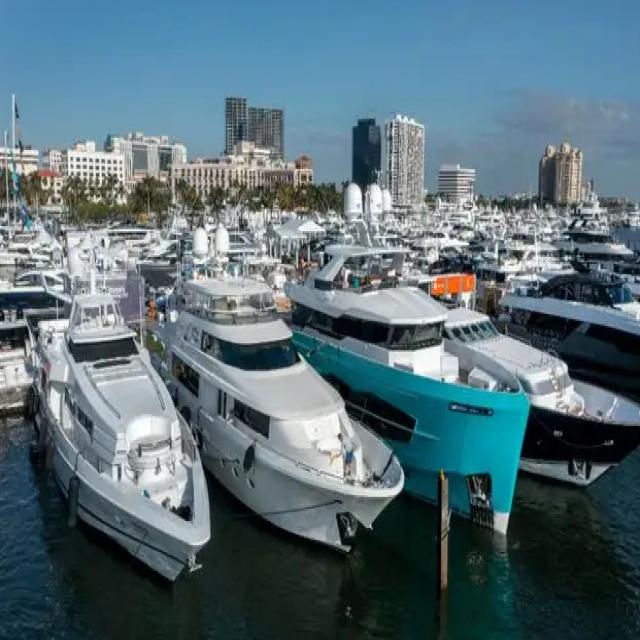houseboat: (283, 227, 536, 559), (157, 256, 400, 569), (29, 286, 211, 588), (413, 268, 640, 500)
